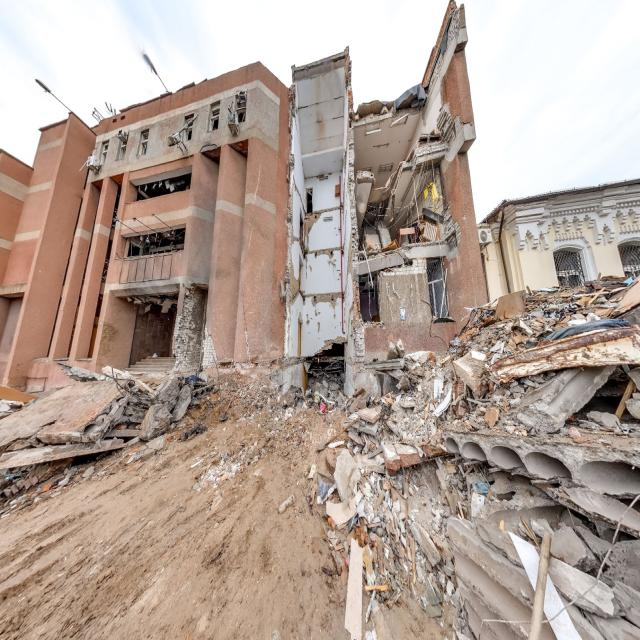broken_window: (426, 256, 449, 320), (553, 246, 586, 288), (358, 271, 380, 324)
building: (0, 1, 491, 402)
